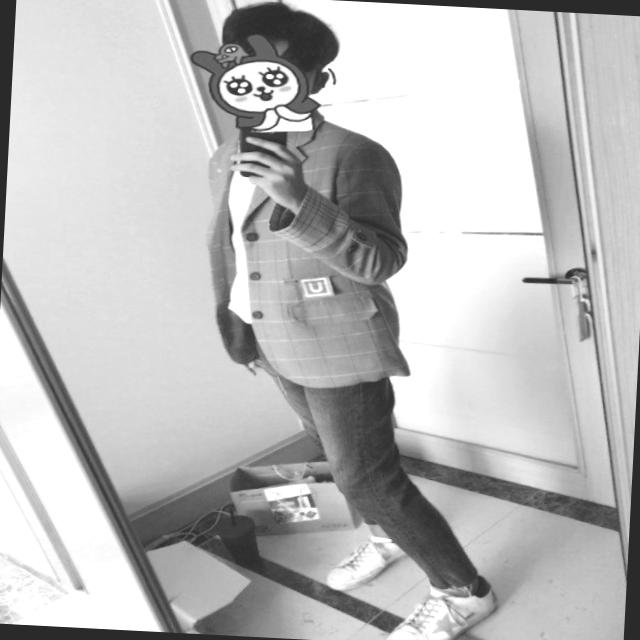blazer: (198, 120, 424, 392)
denimpants: (233, 313, 500, 596)
